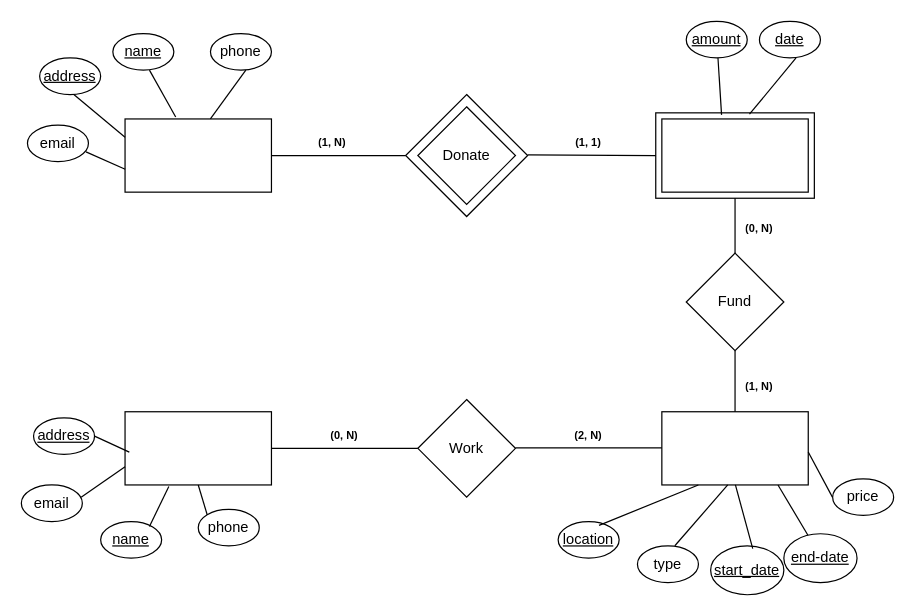
The diagram is 915 pixels wide and 616 high, and some of its shapes have lost their labels. Each missing label, with the box of its shape:
Activities: (661, 411, 808, 485)
Donations: (661, 118, 808, 192)
Supporters: (124, 118, 271, 192)
Volunteers: (124, 411, 271, 485)
